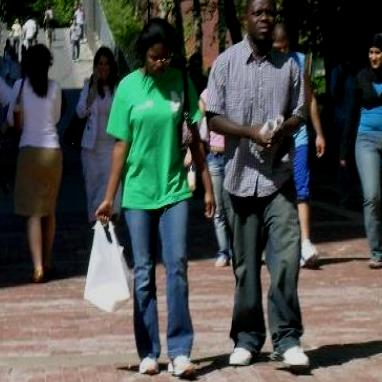ped: (99, 20, 216, 375), (208, 1, 313, 372), (9, 45, 64, 283), (342, 33, 382, 269)
